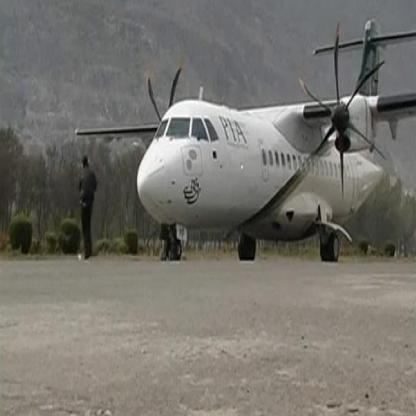CIV_Plane: (67, 12, 414, 267)
